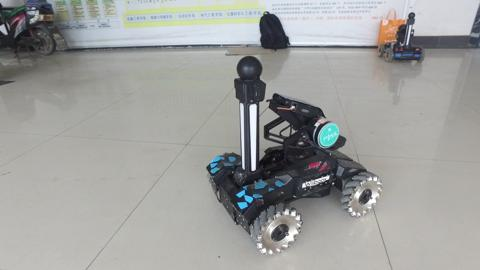bag: (256, 10, 292, 52), (378, 7, 406, 47)
chariot: (204, 54, 383, 256), (377, 11, 425, 63)
